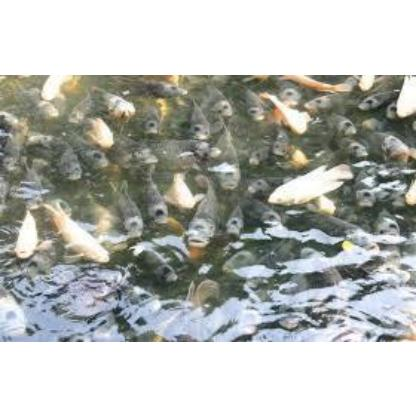gurame: (266, 168, 348, 210), (50, 207, 106, 261), (186, 183, 219, 250), (113, 181, 143, 241), (70, 135, 112, 169), (204, 74, 232, 119), (55, 140, 81, 180), (240, 81, 262, 121), (190, 102, 214, 138), (146, 180, 164, 226)
